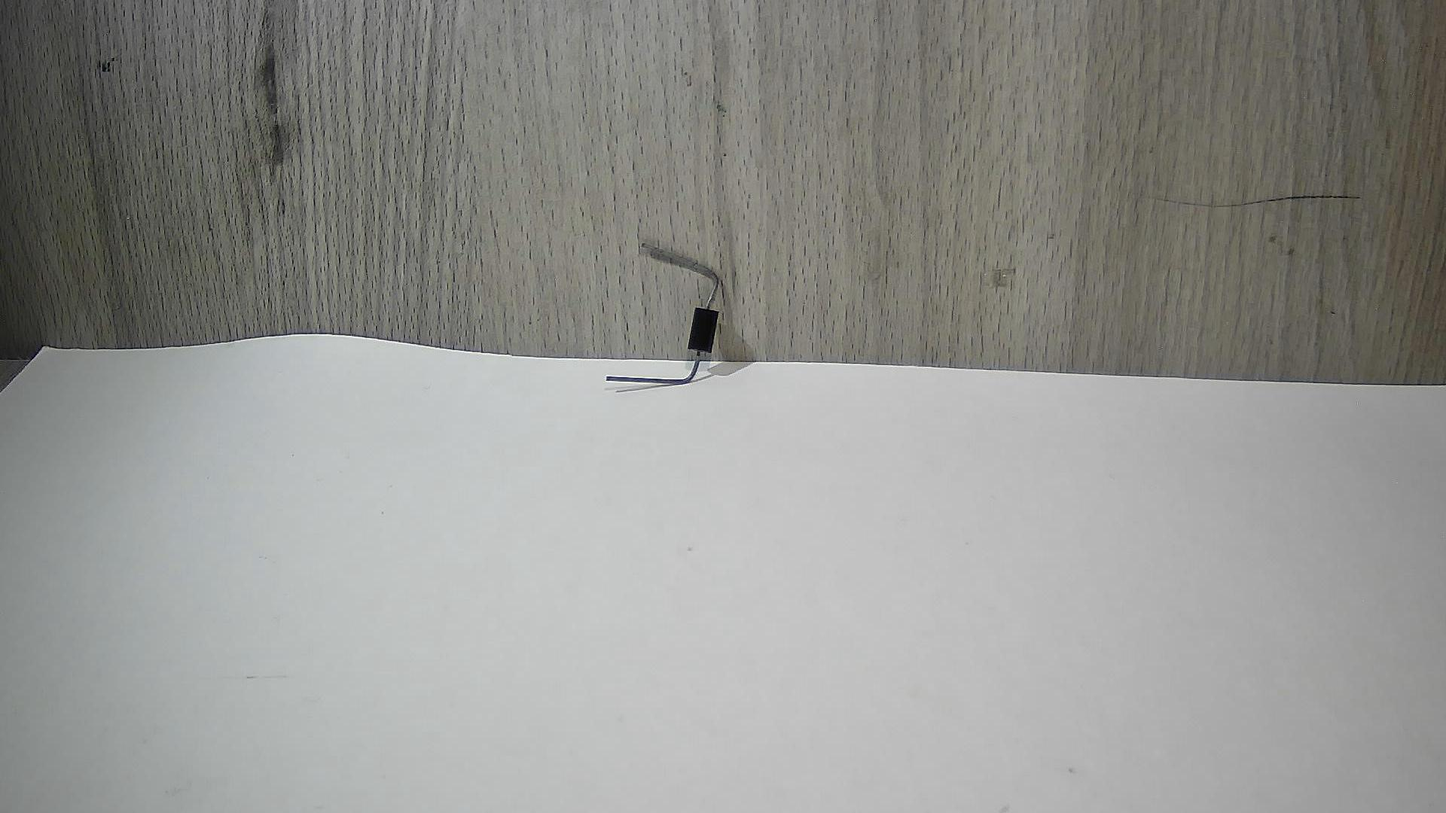Diodo: (597, 221, 773, 429)
